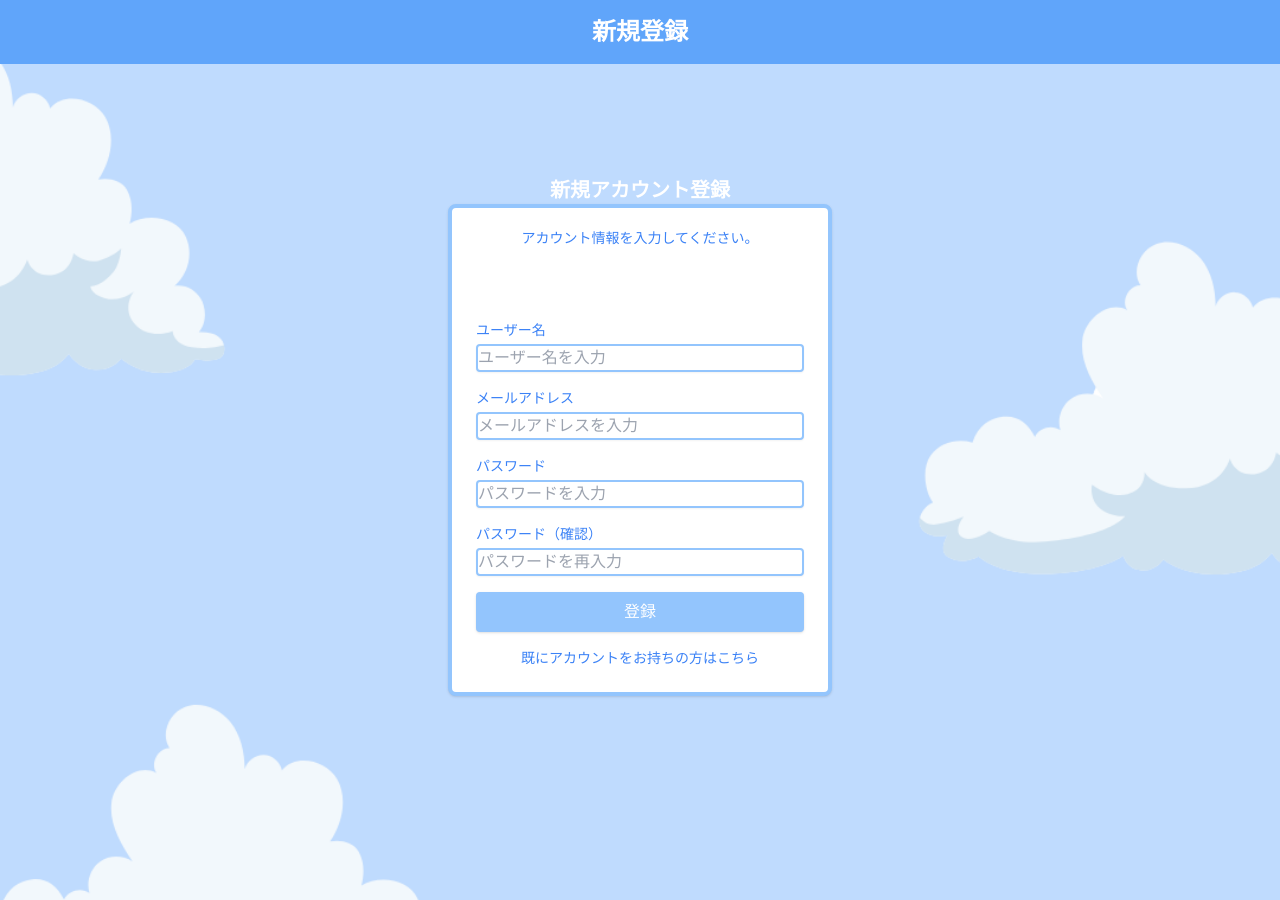
Scenario: SignUpPage › validates email
In the field labelled "メールアドレス": point(640, 426) top-left (476, 412), bottom-right (804, 440), type "invalidemail"
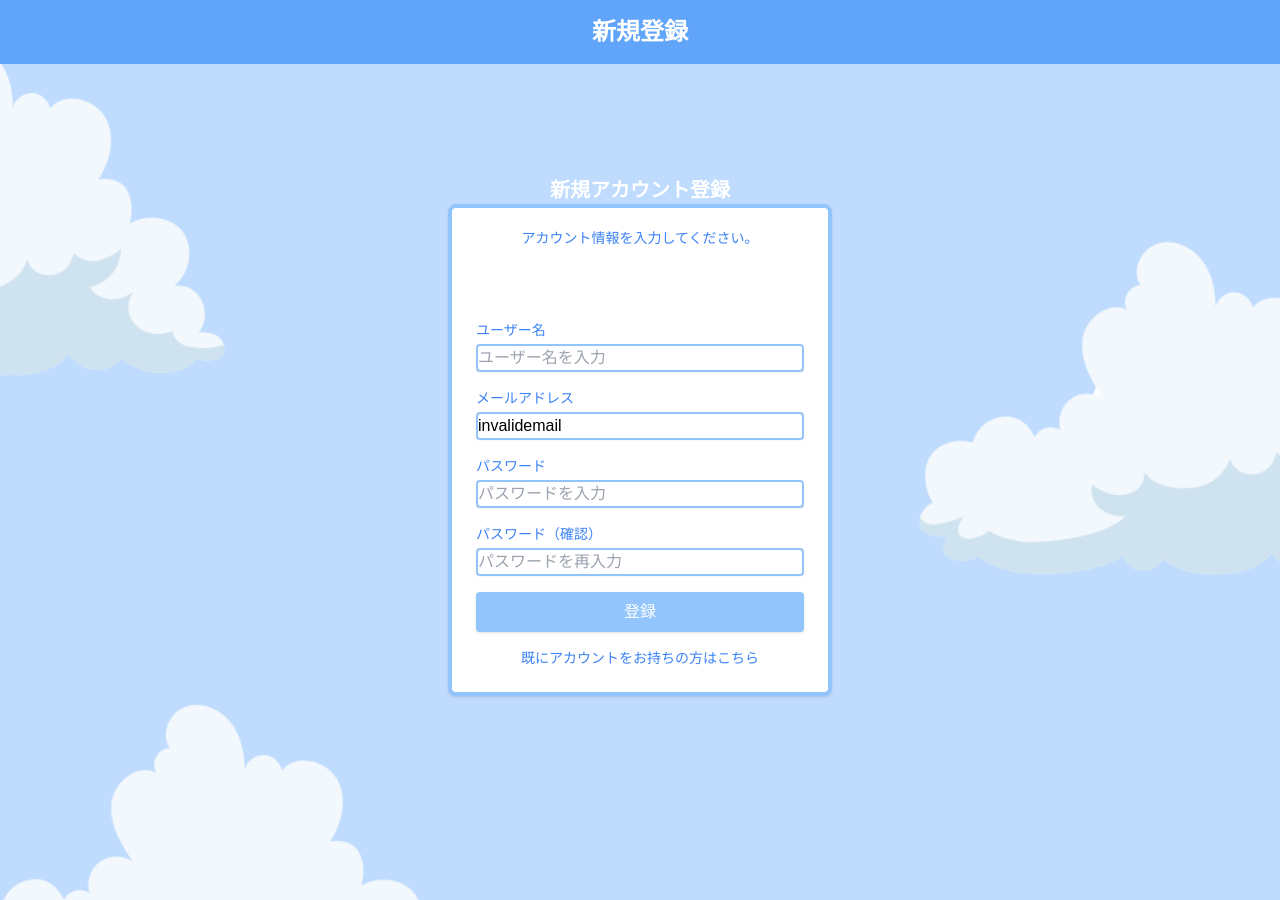
Submit the form, box top-left (476, 320), bottom-right (804, 632)
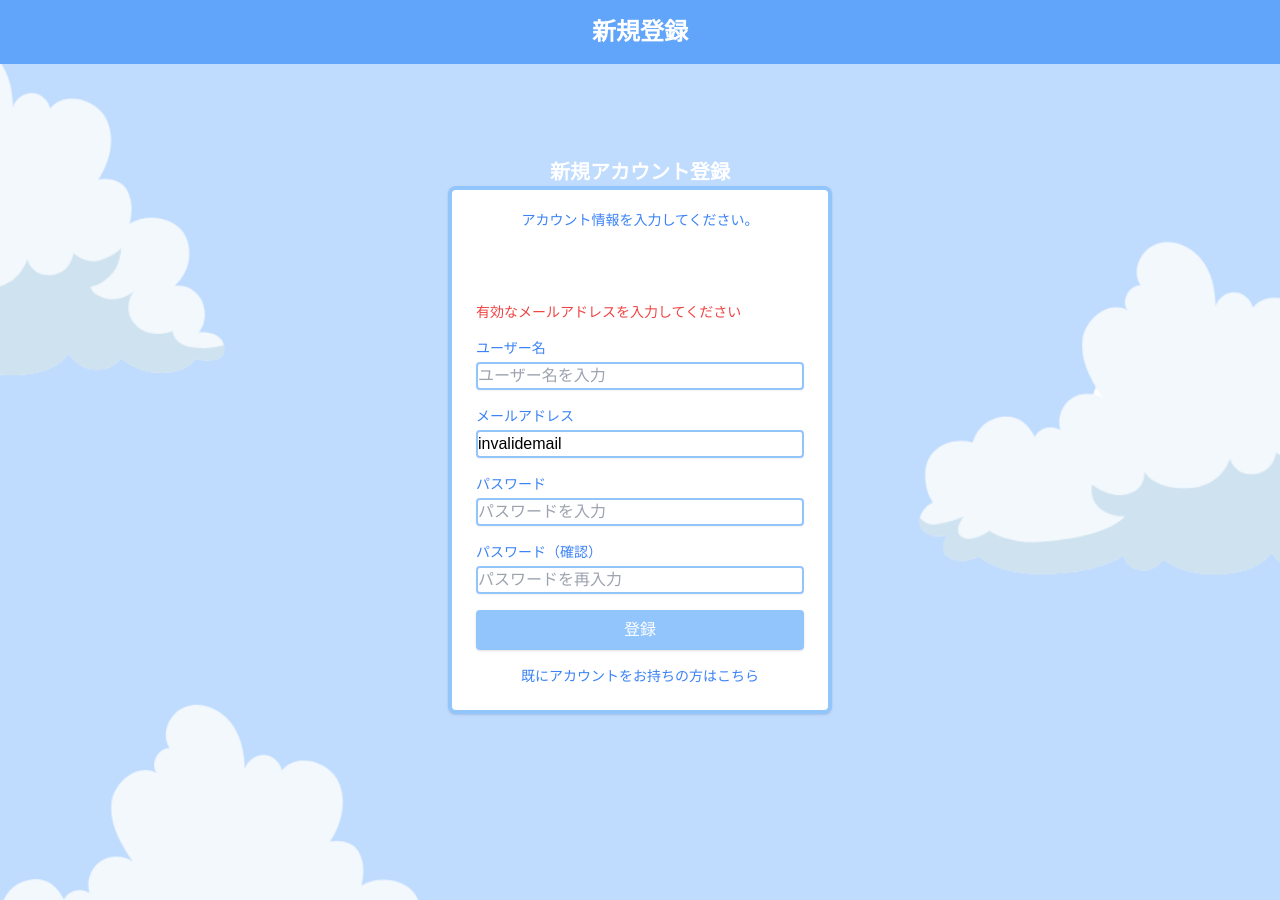
Check: the text with test id "error-message" shows "有効なメールアドレス", box top-left (476, 304), bottom-right (741, 320)
